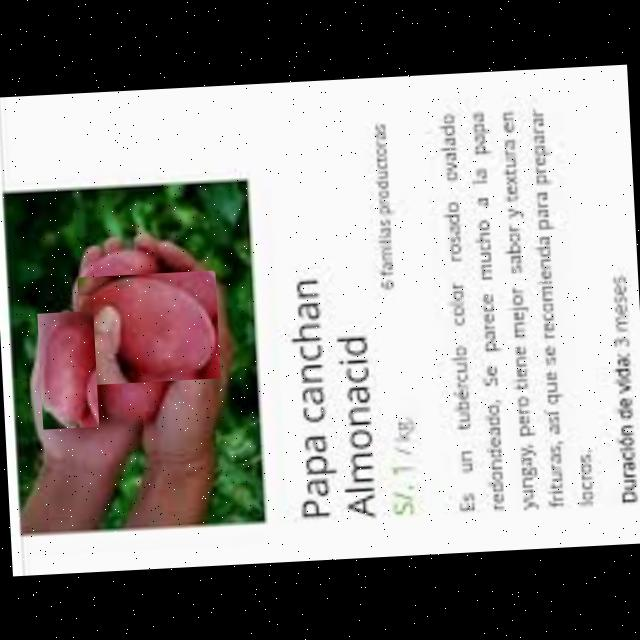Defected potato: (78, 270, 220, 384), (37, 310, 99, 428)
